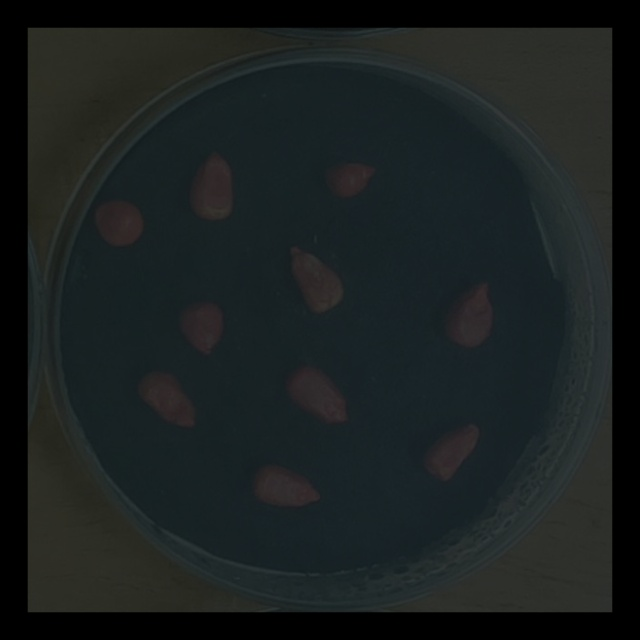Zea mays: (281, 235, 348, 318), (279, 358, 353, 428), (129, 362, 200, 433), (416, 415, 483, 487), (436, 274, 498, 351), (182, 142, 239, 225), (246, 457, 326, 513), (170, 292, 229, 361), (87, 193, 149, 251), (315, 152, 382, 204)
